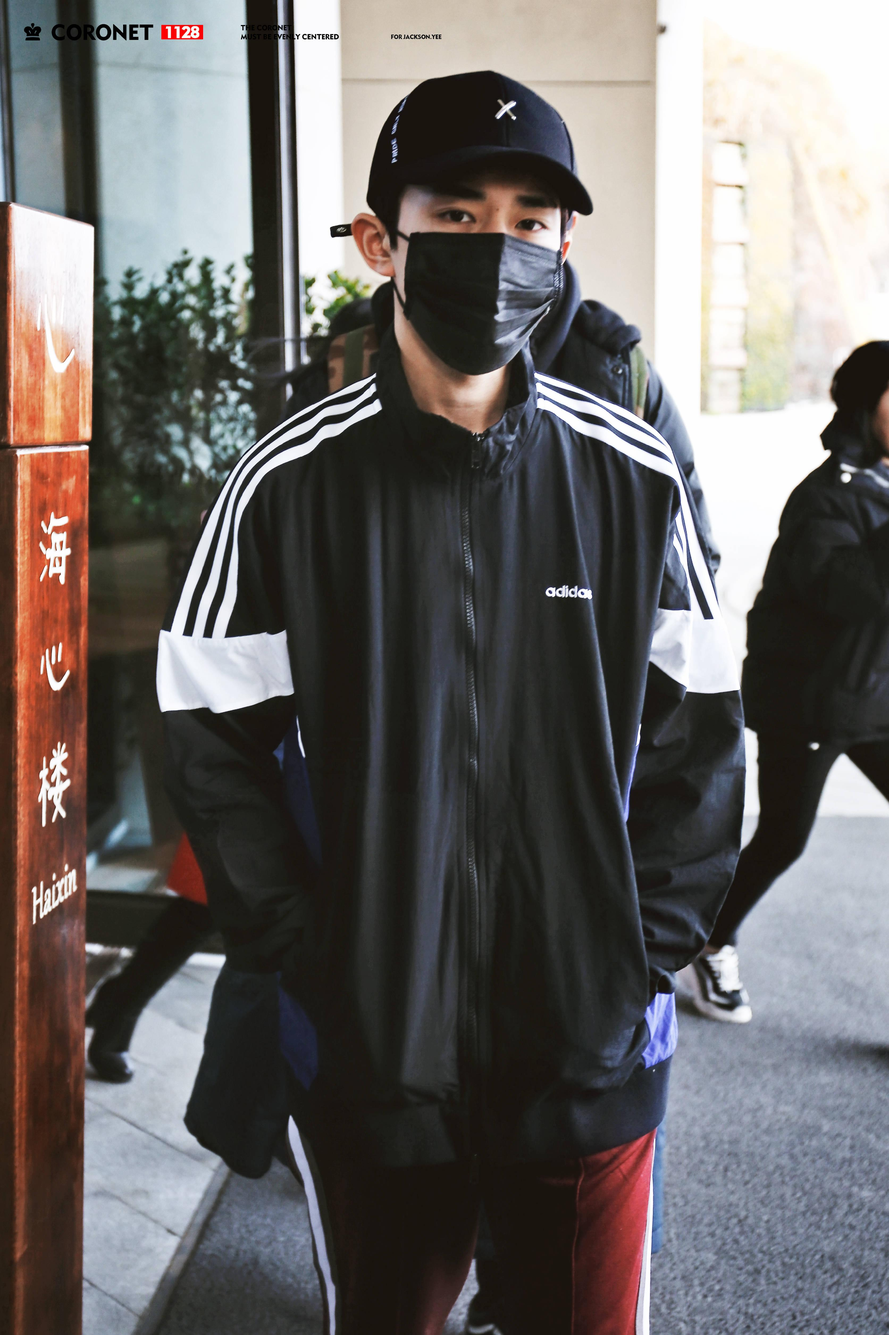OK: (392, 153, 565, 373)
